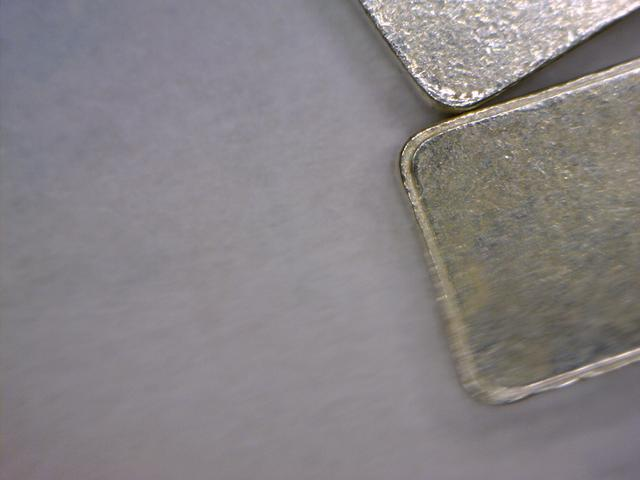nok: (393, 52, 640, 416)
